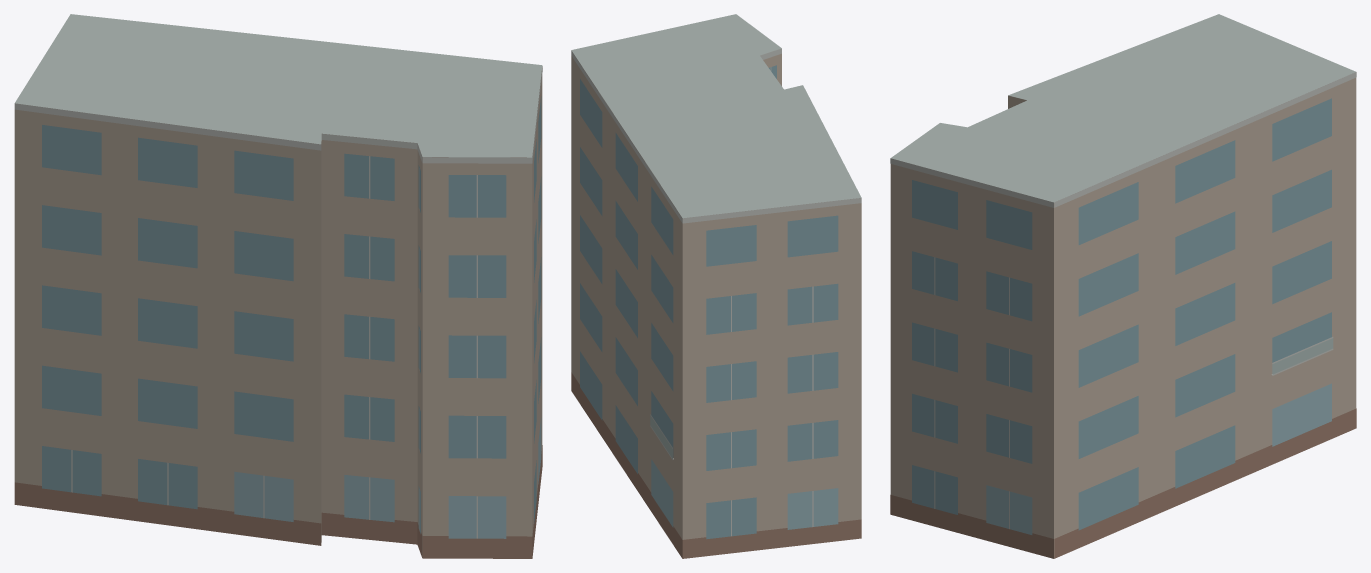
Rendered from survey-upis-32780102.glb.
The picture shows the model from 3 angles, left to right: view 1: azimuth 30°, elevation 25°; view 2: azimuth 150°, elevation 25°; view 3: azimuth 270°, elevation 25°; orthographic projection. The views are drawn at different scales.
Parts seen in each view (by area): view 1: survey-upis-32780102.tmp; view 2: survey-upis-32780102.tmp; view 3: survey-upis-32780102.tmp.
Part boxes in pixels (box(x1,y1,x2,y2)): survey-upis-32780102.tmp: box(14, 14, 542, 558); survey-upis-32780102.tmp: box(571, 14, 861, 558); survey-upis-32780102.tmp: box(890, 14, 1356, 558).
Bounding box in the file's own units: 17.82 × 15.7 × 18.61.
